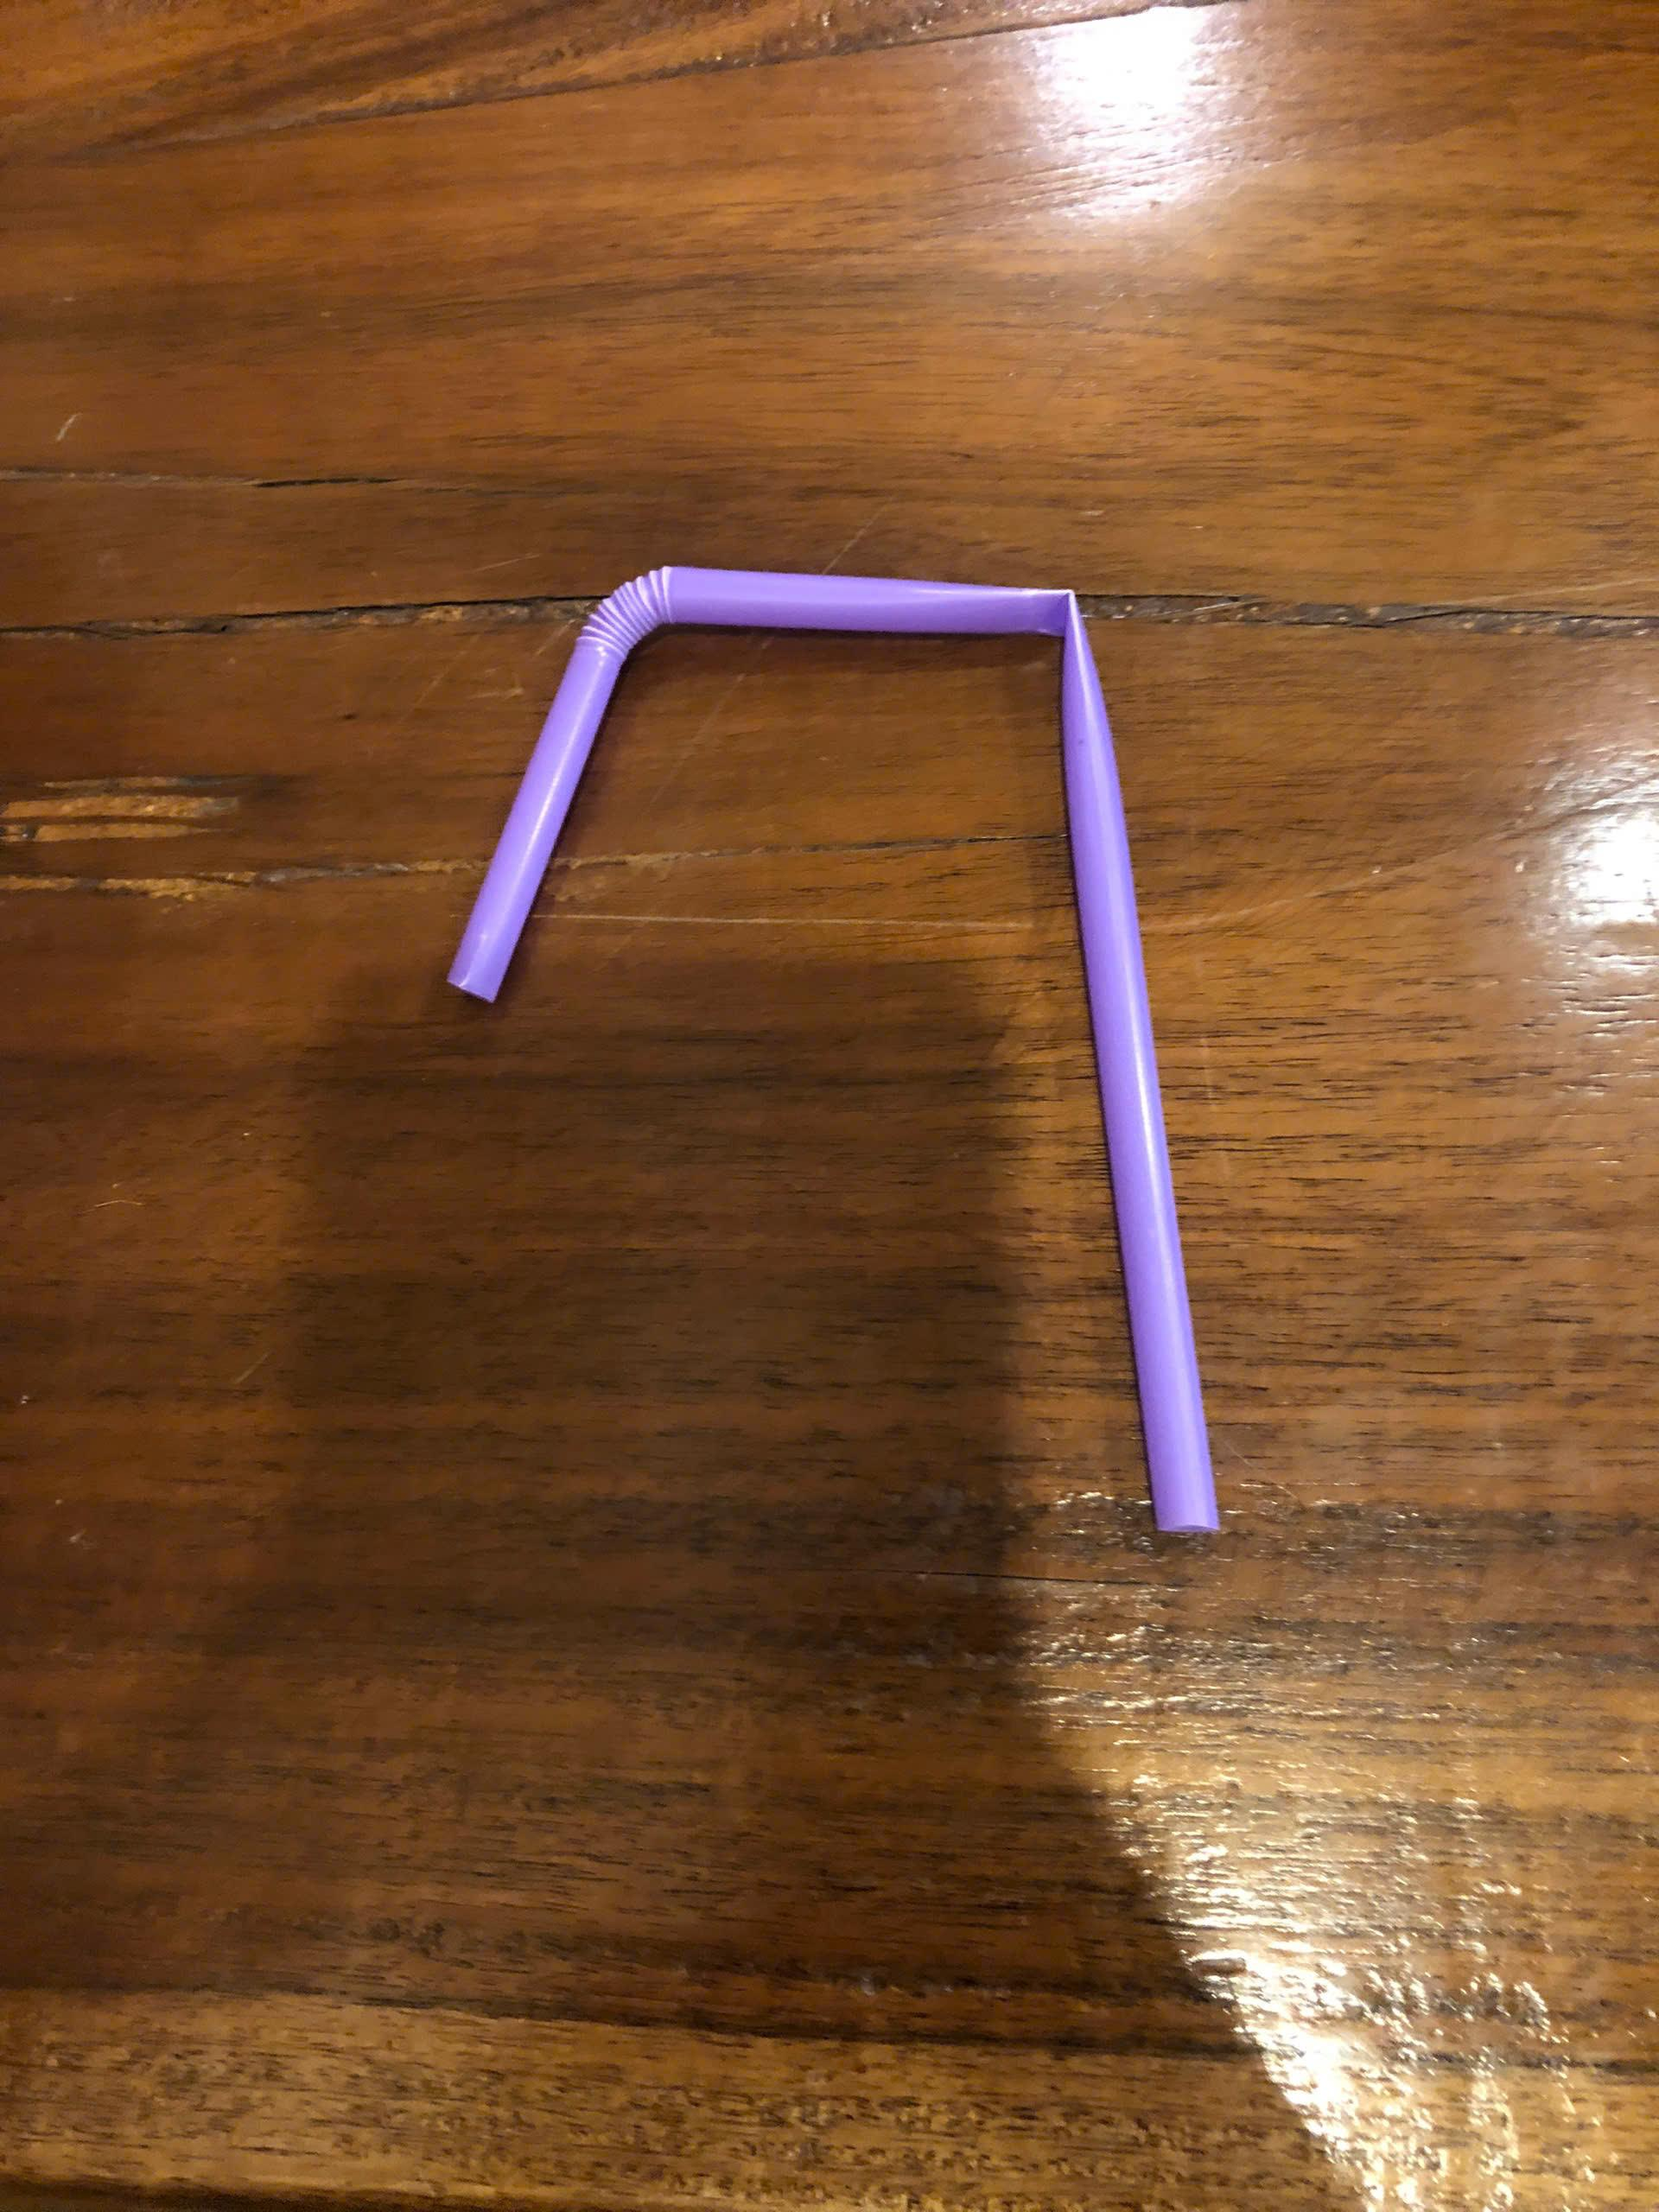Vo co: (450, 563, 1230, 1533)
